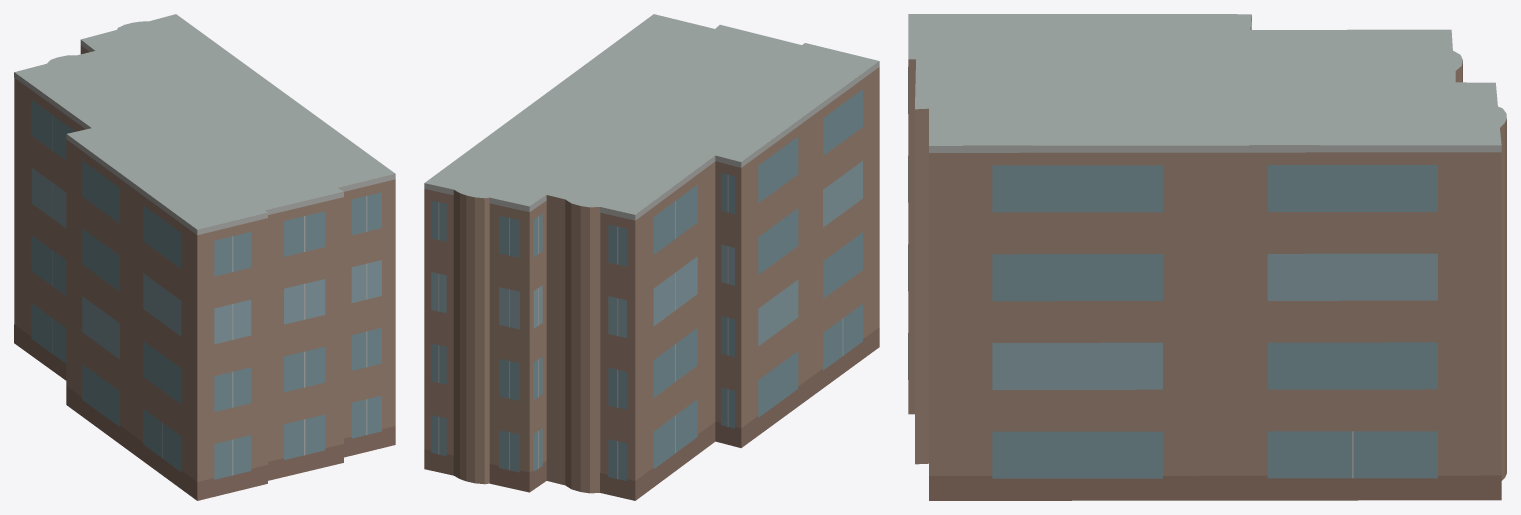
Rendered from survey-upis-32780360.glb.
3 renders of one model, left to right at view 1: azimuth 30°, elevation 25°; view 2: azimuth 150°, elevation 25°; view 3: azimuth 270°, elevation 25°, orthographic. The views are drawn at different scales.
Visible parts, largest first — view 1: survey-upis-32780360.tmp; view 2: survey-upis-32780360.tmp; view 3: survey-upis-32780360.tmp.
Boxes of the visible parts, x1,y1,x2,y2 form: survey-upis-32780360.tmp: [14, 14, 395, 500]; survey-upis-32780360.tmp: [424, 14, 879, 500]; survey-upis-32780360.tmp: [908, 14, 1506, 500].
Size of the model in its own units: 9.73 by 12.2 by 18.65.
